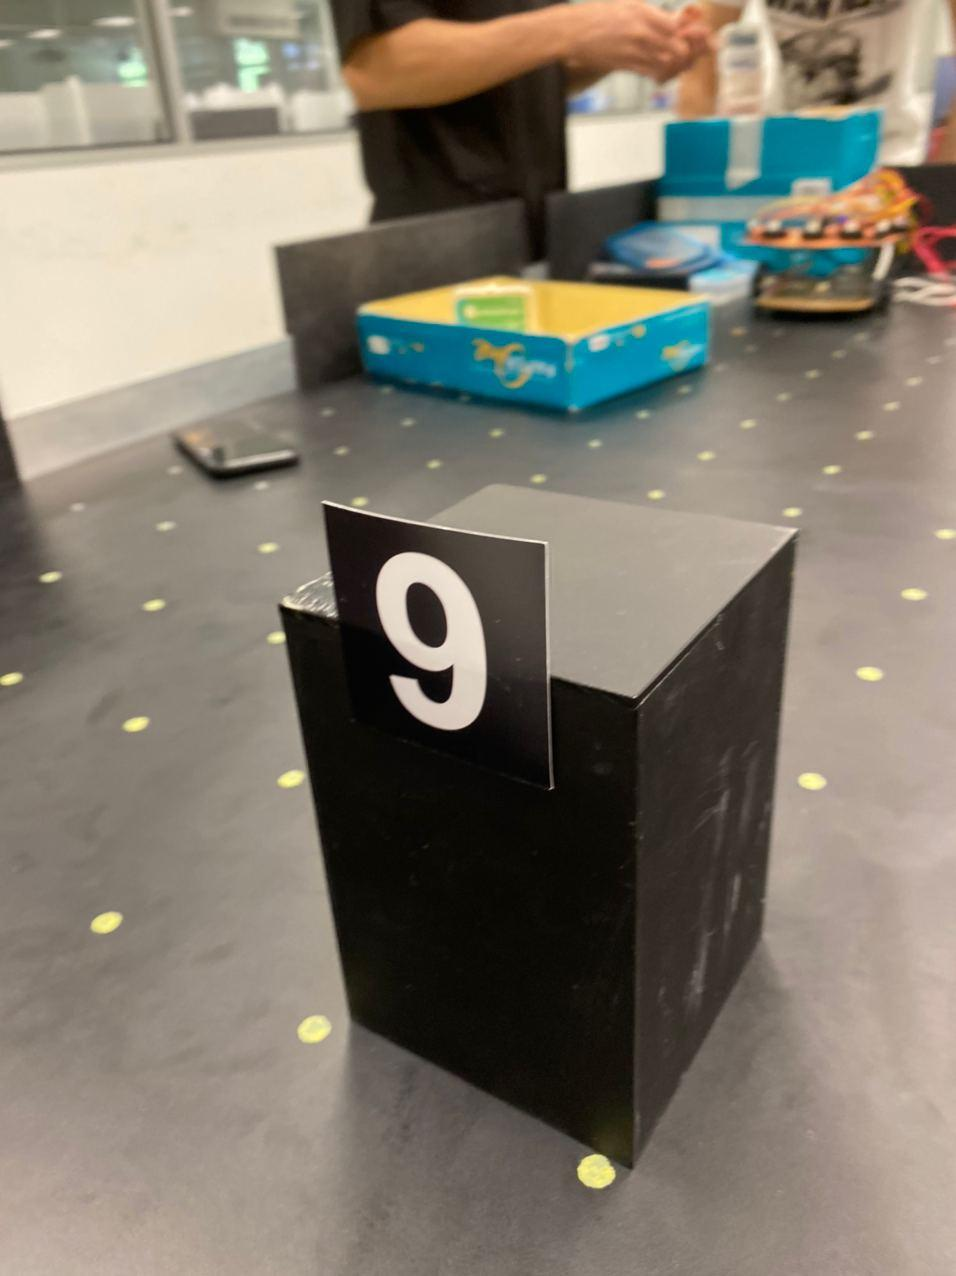9dd: (348, 540, 487, 735)
